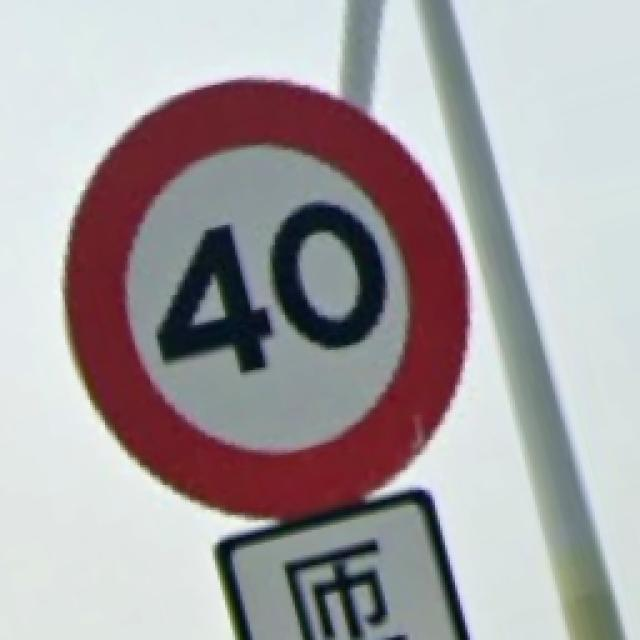Speed Limit -40-: (68, 80, 468, 515)
